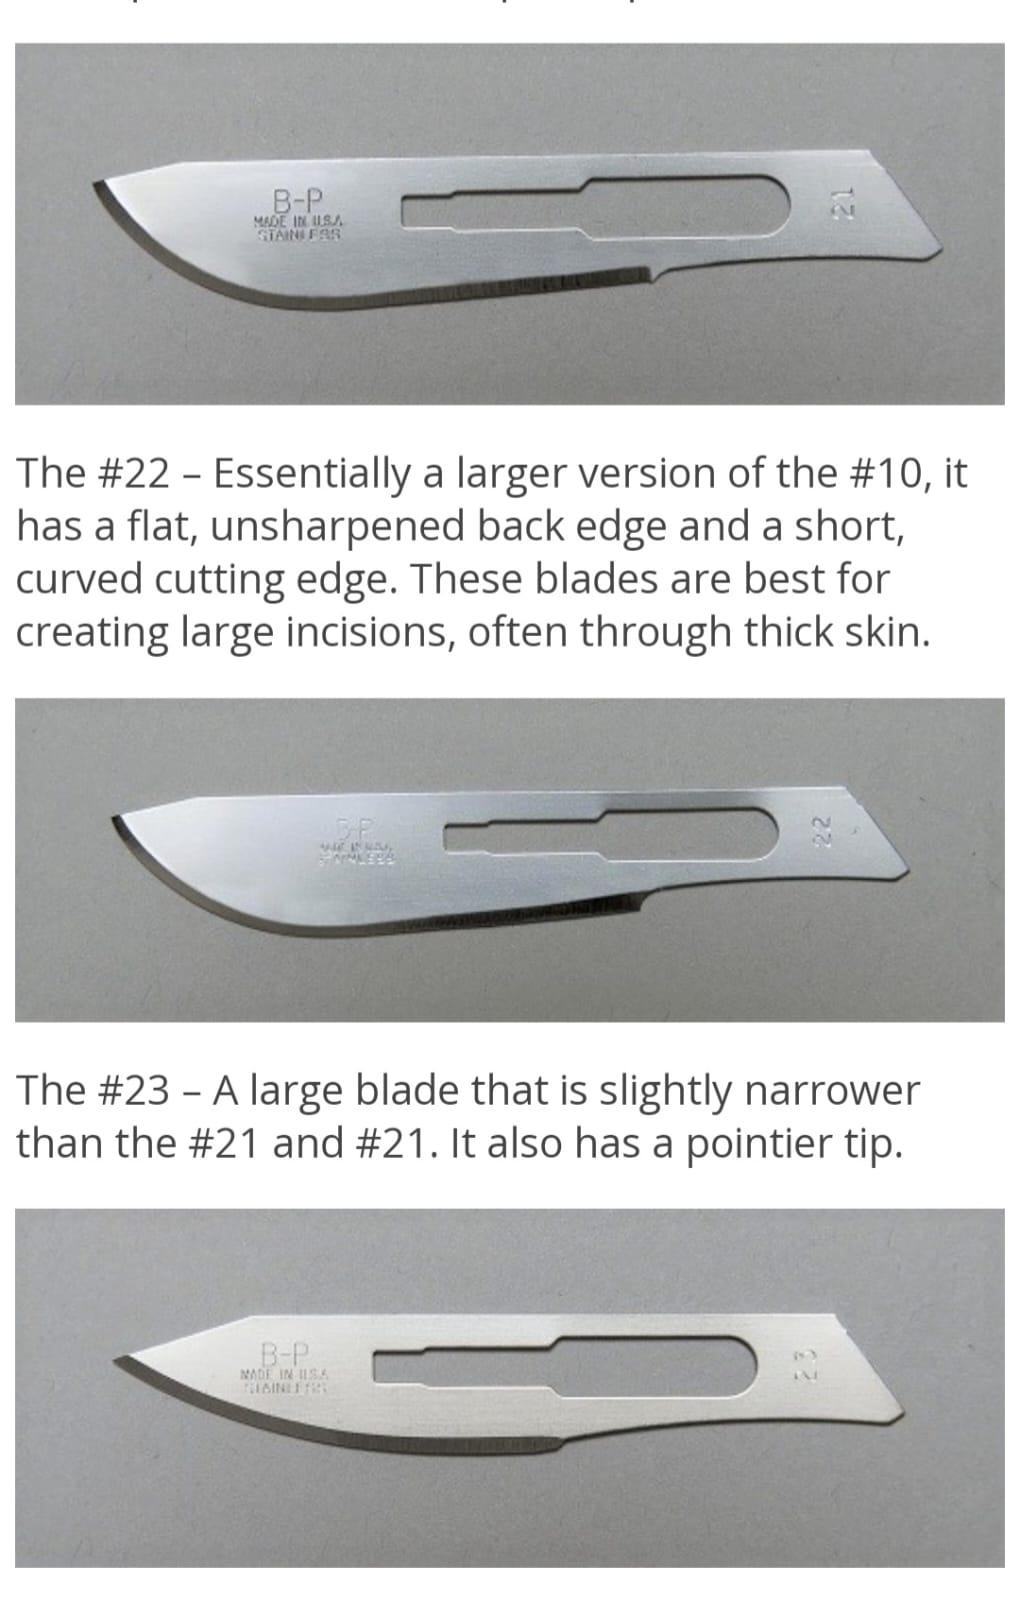Surgical blade: (103, 743, 926, 955), (65, 105, 926, 308), (105, 1272, 920, 1471)
